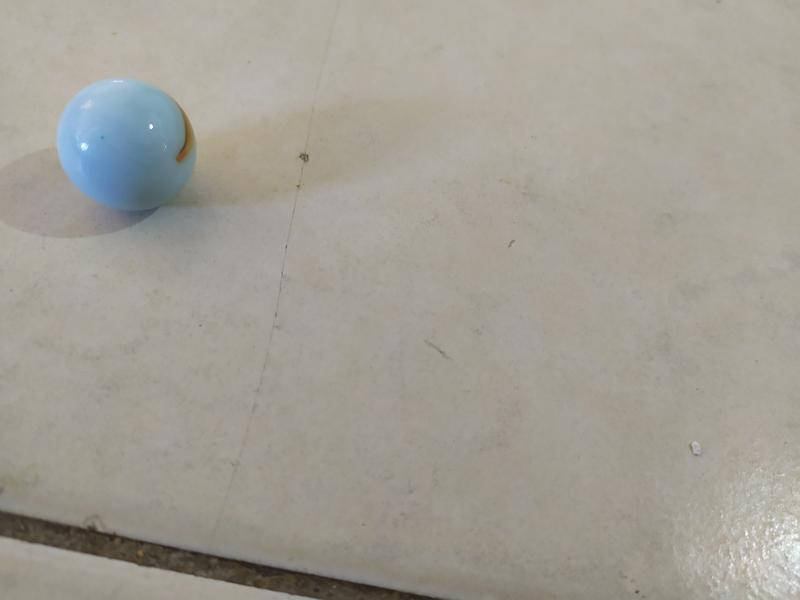Warning: (52, 74, 203, 216)
